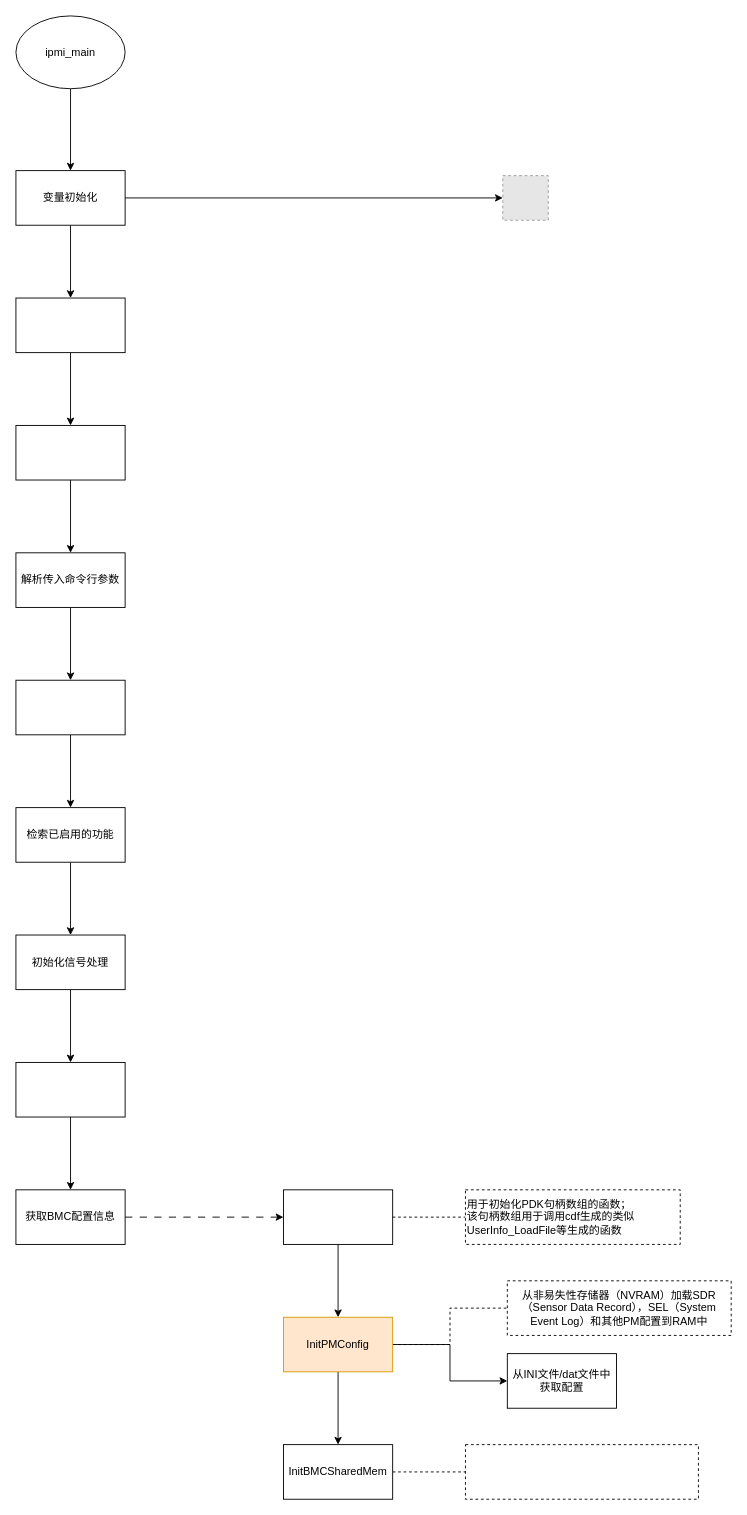
Image size: 747x1515. Some labels were removed from this diagram. Grey dashed boxes stand in for pictures. Each missing label, with the centre of its shape:
InitPDKPARHooks: (338,1216)
xxxxx: (70,325)
初始化与BMC相关的共享内存区域。该函数为不同的内存区域分配并初始化资源，以便它们可以在整个BMC堆栈中使用: (581,1471)
初始化消息队列，用于进程间通信: (70,1089)
守护进程模式相关: (70,707)
检查是否有另一个IPMIMain在运行: (70,452)
